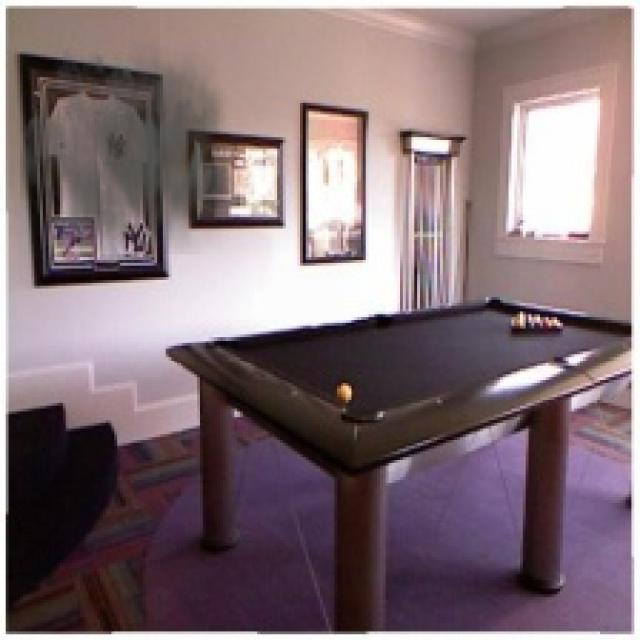Smoke: (20, 26, 240, 254)
